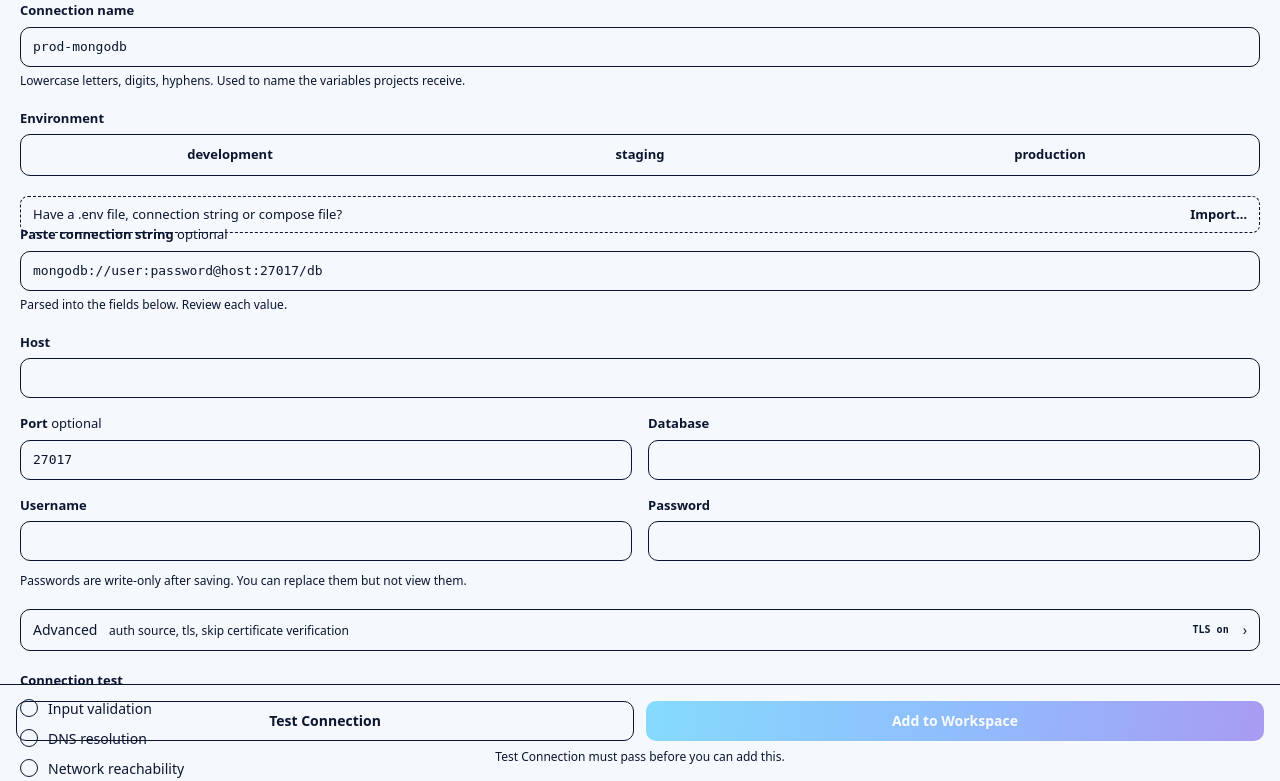
Test: ConnectTab form › advanced section carries a TLS badge and the insecure option warns
Expected: the text "TLS on" is shown, [1192, 624, 1229, 635]
Click the text "Advanced".
click(191, 630)  # box [33, 620, 349, 640]
(page scrolled)
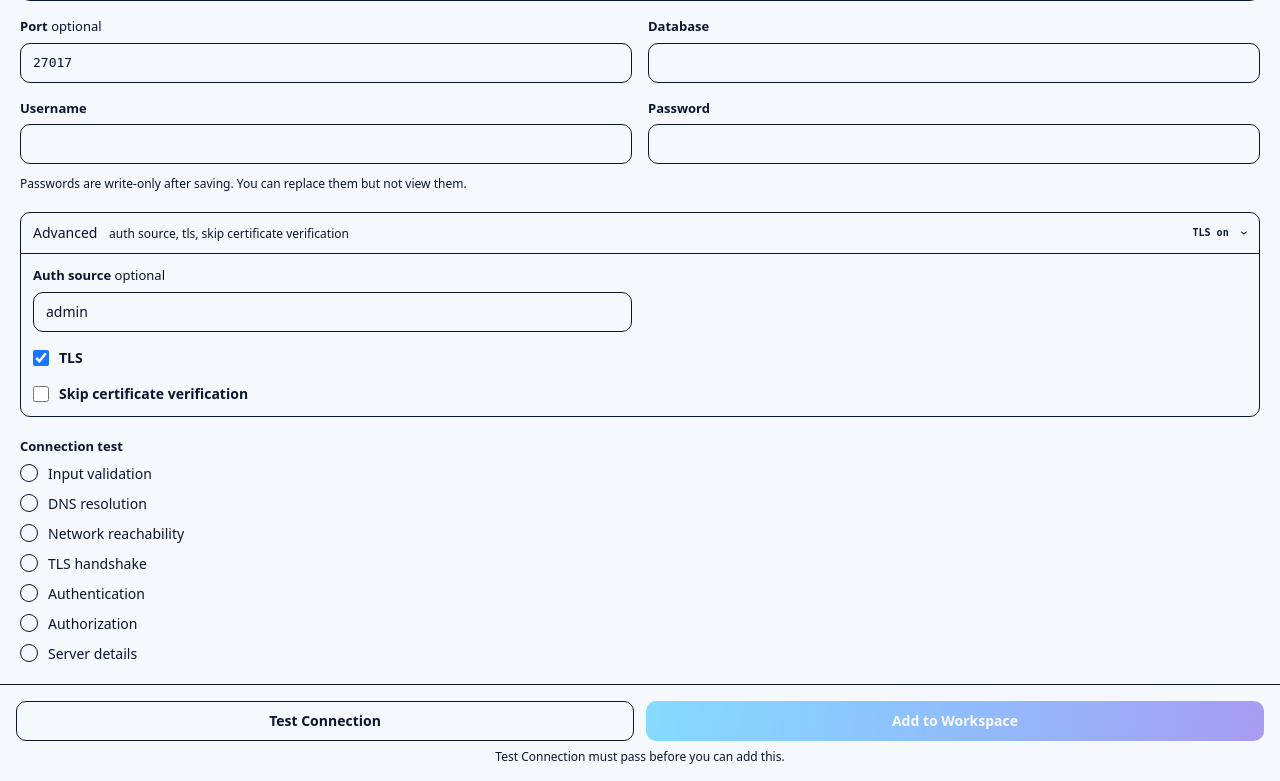
Click the switch labelled "Skip certificate verification".
click(41, 394)  # box [33, 386, 49, 402]
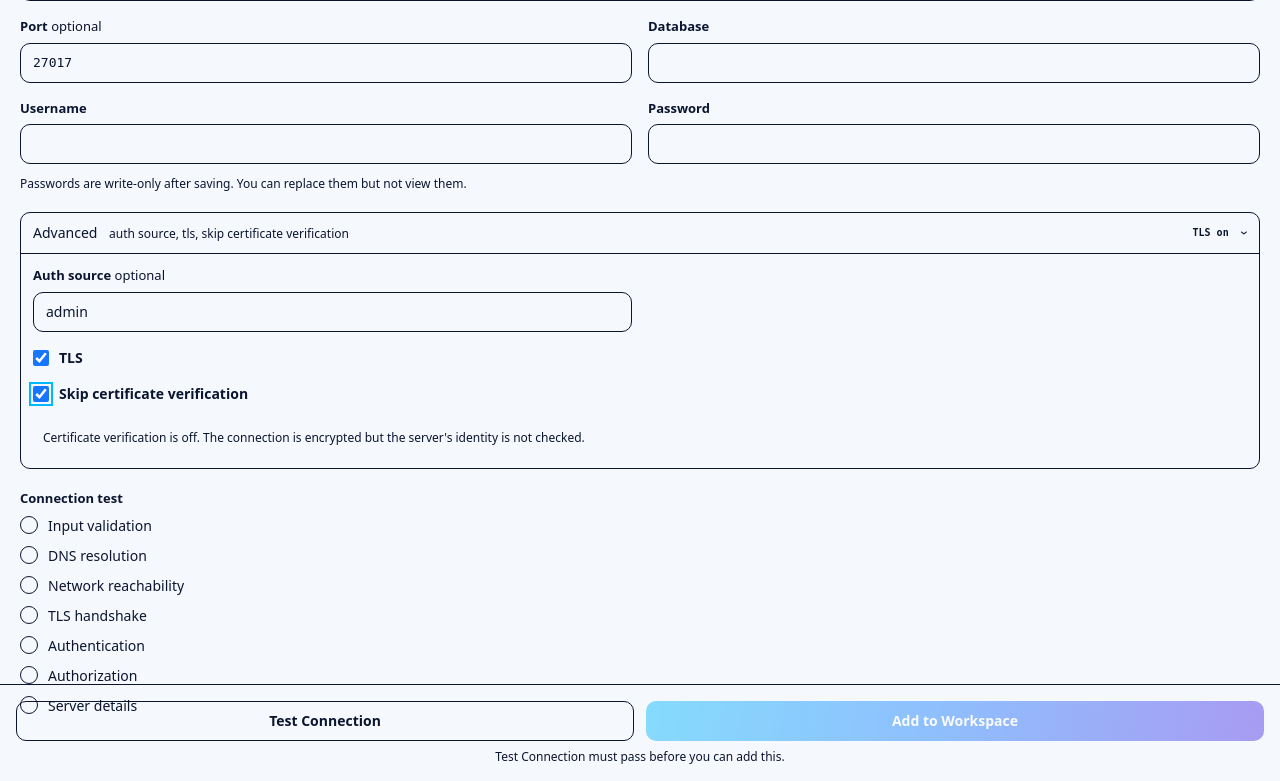
Expected: the message shows "server's identity is not checked", [43, 428, 585, 446]
